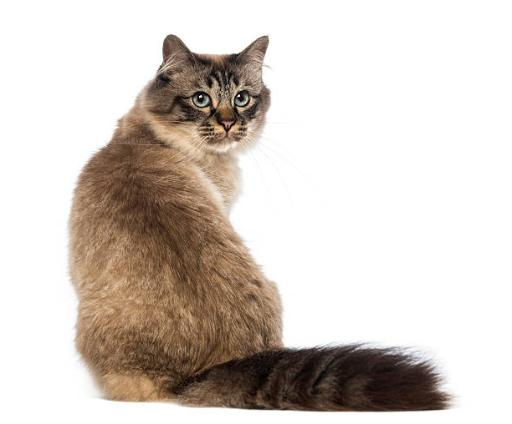cat_sitting: (70, 36, 448, 411)
